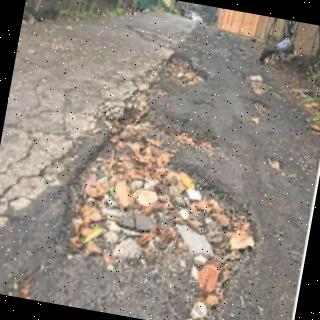pothole: (40, 83, 262, 320), (160, 54, 210, 91), (244, 74, 275, 95)
